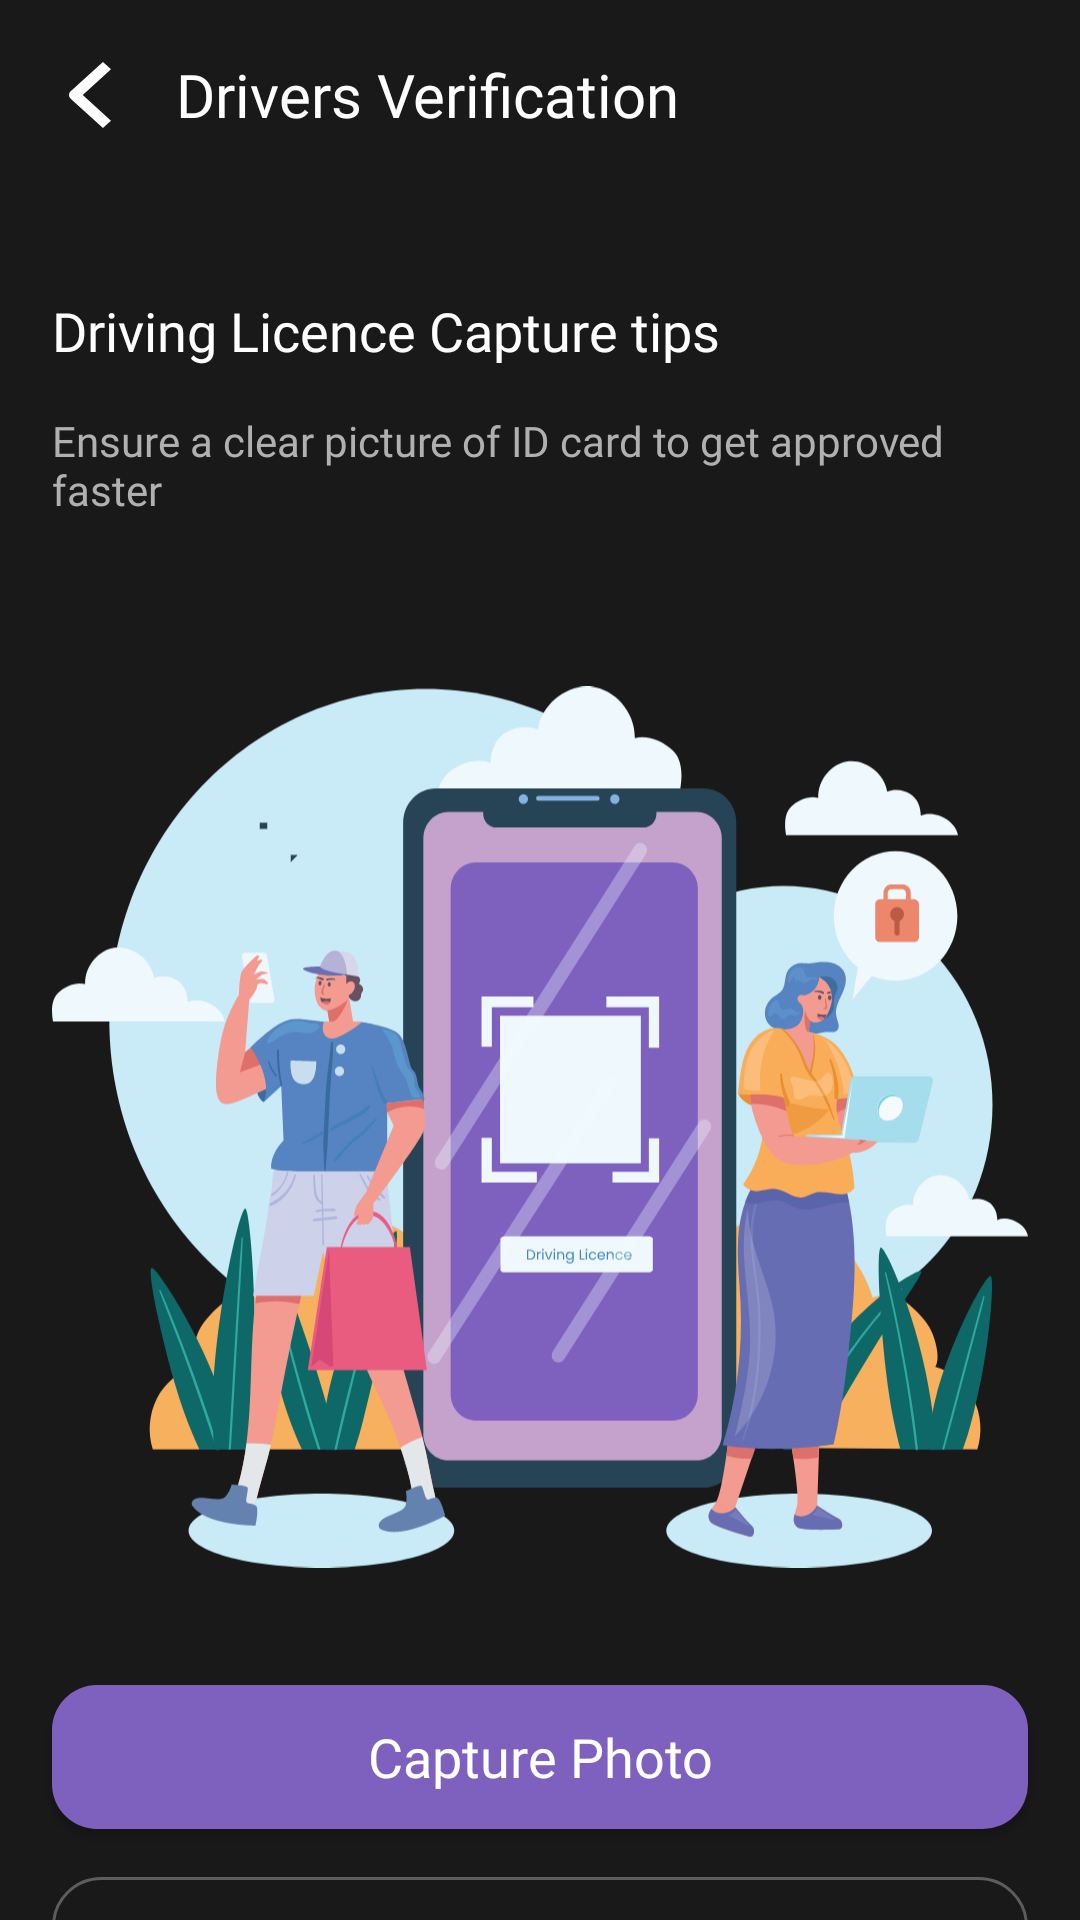

Named icons in this screenshot (1080×1920) and their bounding boxes, [x1=x1, y1=y1, x2=x2, y2=y2]:
Back button: [x1=69, y1=62, x2=111, y2=128]
